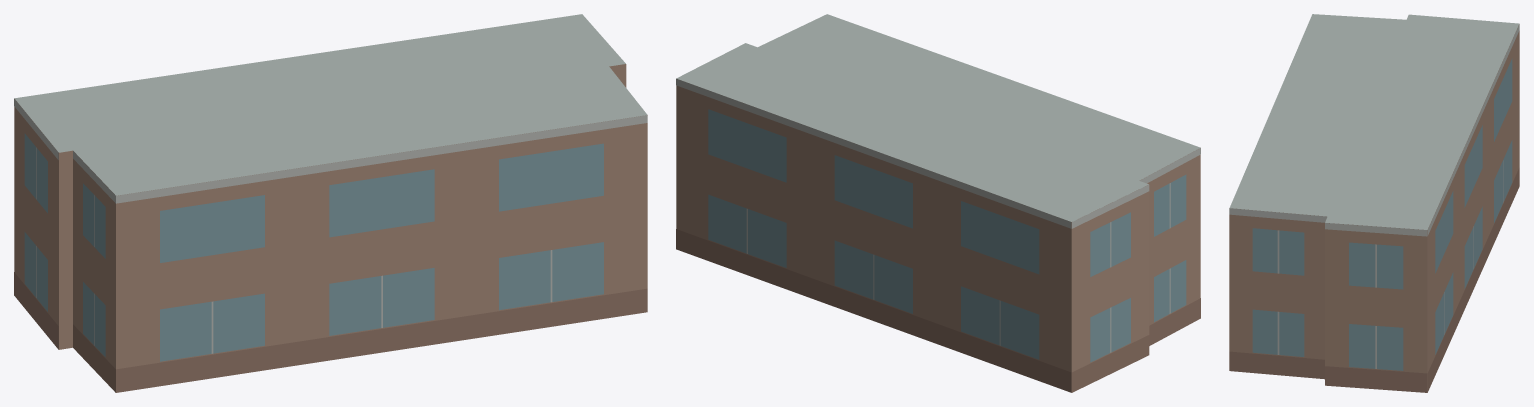
The model's file is survey-upis-32934176.glb.
3 views of the same model, side by side, from view 1: azimuth 30°, elevation 25°; view 2: azimuth 150°, elevation 25°; view 3: azimuth 270°, elevation 25° (orthographic). The views are drawn at different scales.
Visible parts, largest first — view 1: survey-upis-32934176.tmp; view 2: survey-upis-32934176.tmp; view 3: survey-upis-32934176.tmp.
Boxes of the visible parts, x1,y1,x2,y2 form: survey-upis-32934176.tmp: (14,14,647,392); survey-upis-32934176.tmp: (676,14,1200,392); survey-upis-32934176.tmp: (1229,14,1519,392).
Size of the model in its own units: 17.37 by 6.1 by 9.86.
